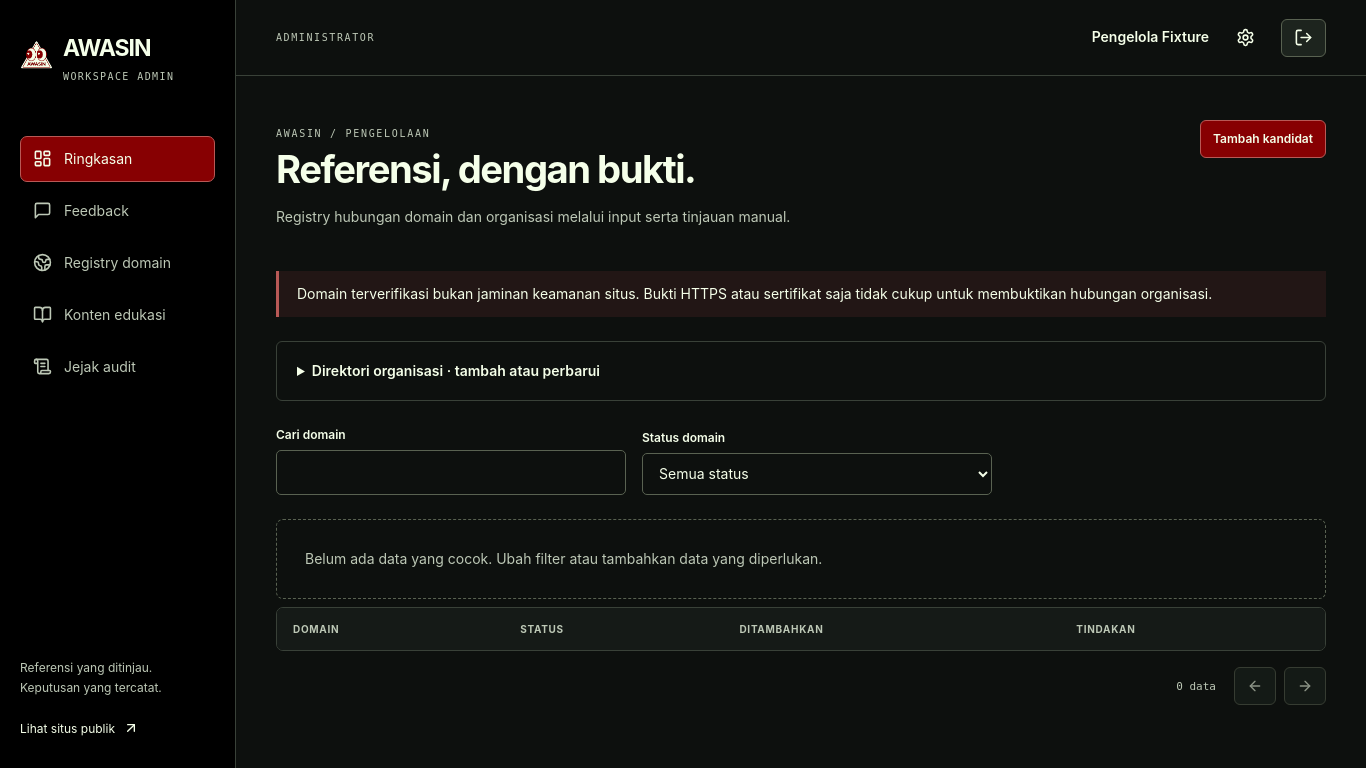
Test: creates candidates through evidence fields and provides separate explicit review workflow
The width and height of the screenshot is (1366, 768).
Click the button "Tambah kandidat". click: (1263, 139)
box: top-left (1200, 120), bottom-right (1326, 158)
(page scrolled)
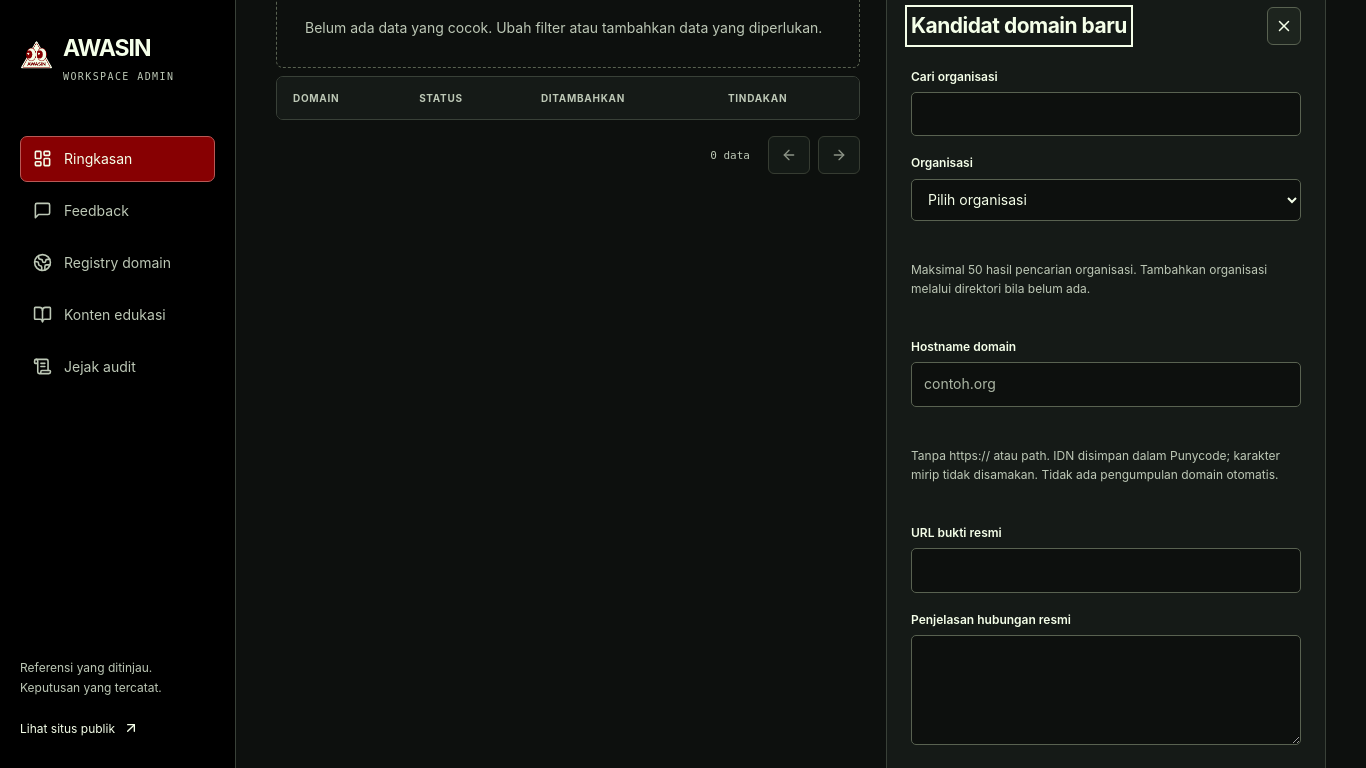
Expected: the heading "Kandidat domain baru" is shown, top-left (911, 11), bottom-right (1127, 41)
Expected: the text "Penjelasan hubungan resmi" is shown, top-left (911, 610), bottom-right (1301, 745)
Expected: the field with placeholder "contoh.org" is shown, top-left (911, 362), bottom-right (1301, 407)
